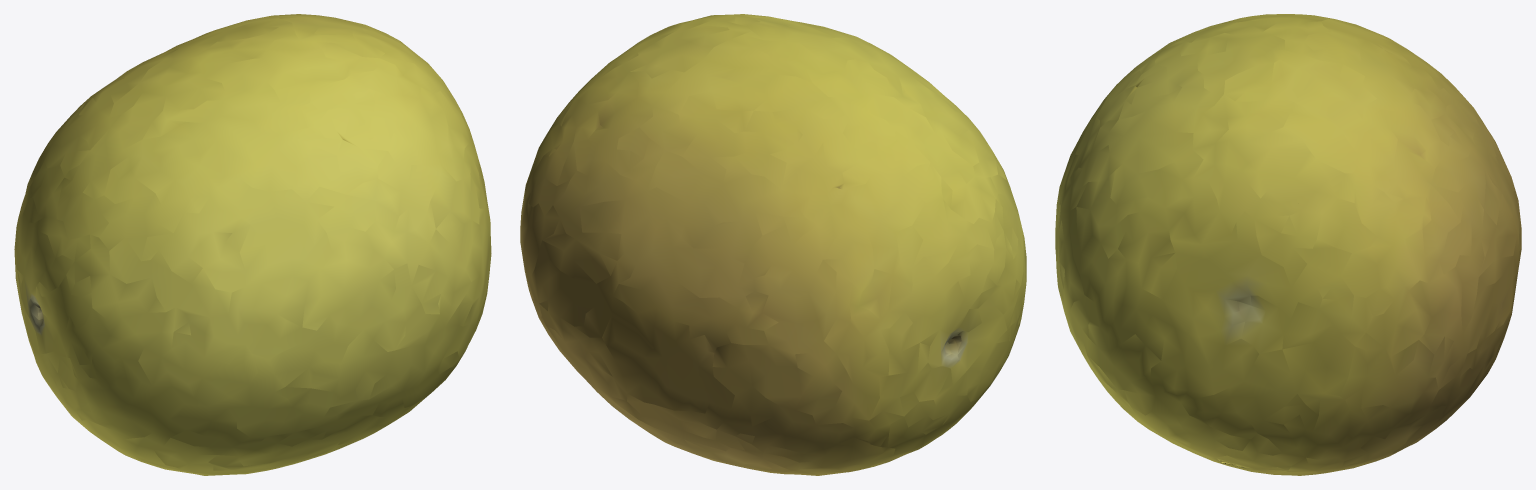
Rendered from 0004_mask_005_orange.glb.
3 views of the same model, side by side, from view 1: azimuth 30°, elevation 25°; view 2: azimuth 150°, elevation 25°; view 3: azimuth 270°, elevation 25° (orthographic). The views are drawn at different scales.
Parts seen in each view (by area): view 1: mask_005_object; view 2: mask_005_object; view 3: mask_005_object.
Boxes of the visible parts, x1,y1,x2,y2 form: mask_005_object: (14,14,491,475); mask_005_object: (520,14,1026,475); mask_005_object: (1055,14,1521,475).
Bounding box in the file's own units: 0.1318 × 0.1192 × 0.1205.
